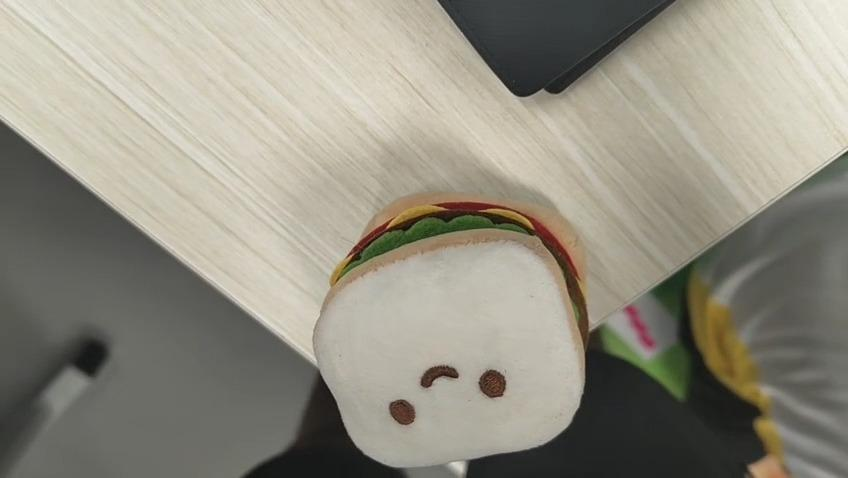objects: (315, 191, 594, 469)
